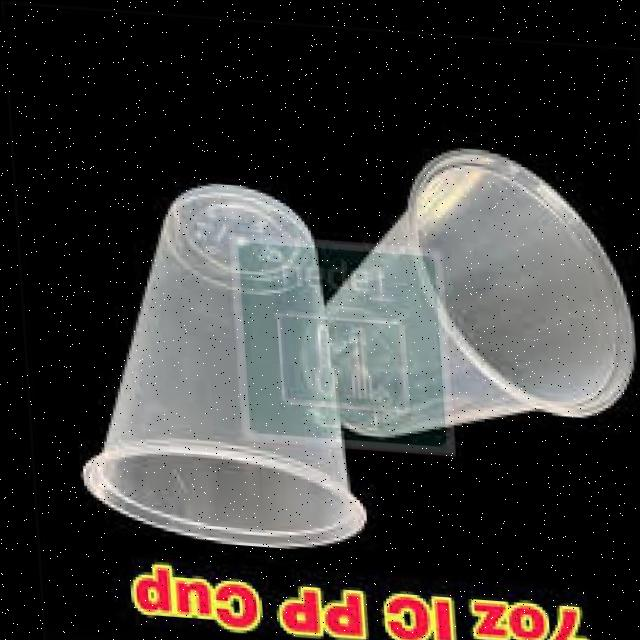cup: (305, 122, 633, 510), (69, 164, 370, 560)
